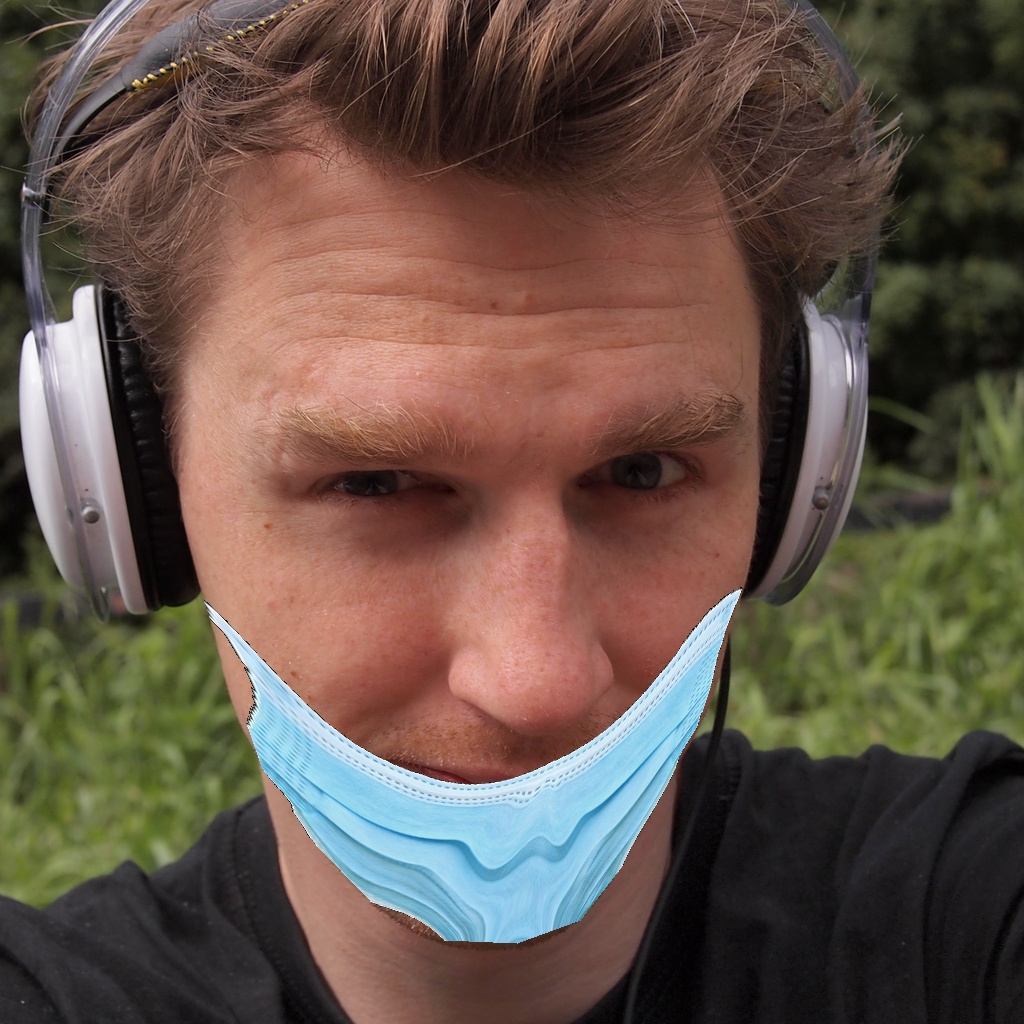mascarilla_mal_puesta: (139, 368, 777, 938)
